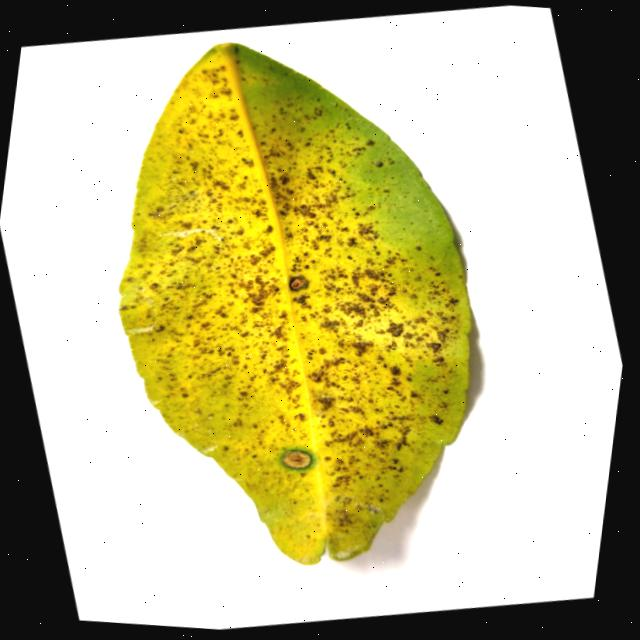melanose: (119, 42, 470, 563)
